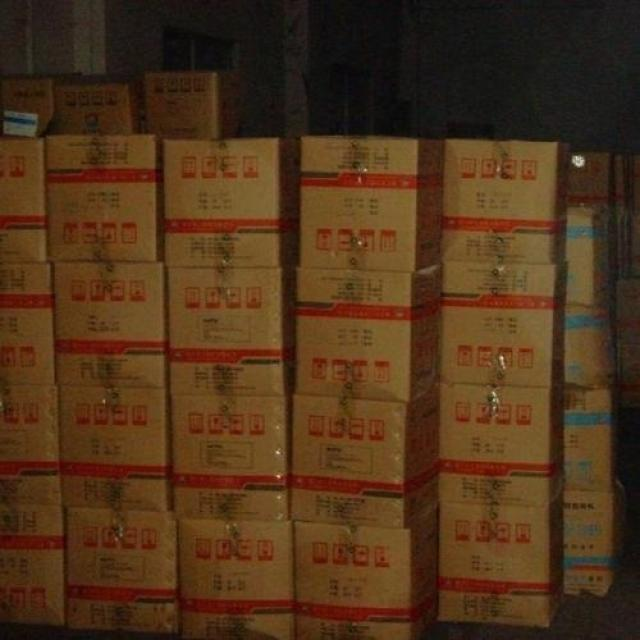box: (294, 261, 445, 403), (289, 389, 440, 530), (291, 508, 442, 640), (301, 137, 445, 274), (165, 138, 302, 268), (166, 266, 298, 397), (436, 495, 566, 627), (170, 390, 293, 522), (444, 138, 571, 264), (442, 262, 566, 388), (440, 387, 564, 508), (52, 261, 169, 388), (49, 136, 166, 262), (58, 385, 173, 513), (179, 516, 296, 640), (63, 508, 180, 630), (141, 70, 275, 140), (0, 507, 65, 626), (69, 0, 164, 81), (0, 385, 61, 507), (563, 483, 626, 595), (0, 262, 56, 387), (563, 388, 623, 494), (0, 137, 47, 262), (51, 77, 147, 137), (563, 301, 621, 390), (564, 205, 613, 305), (0, 74, 59, 140), (29, 0, 72, 77), (566, 152, 616, 207), (616, 279, 640, 346), (617, 343, 640, 396), (613, 160, 626, 207)
